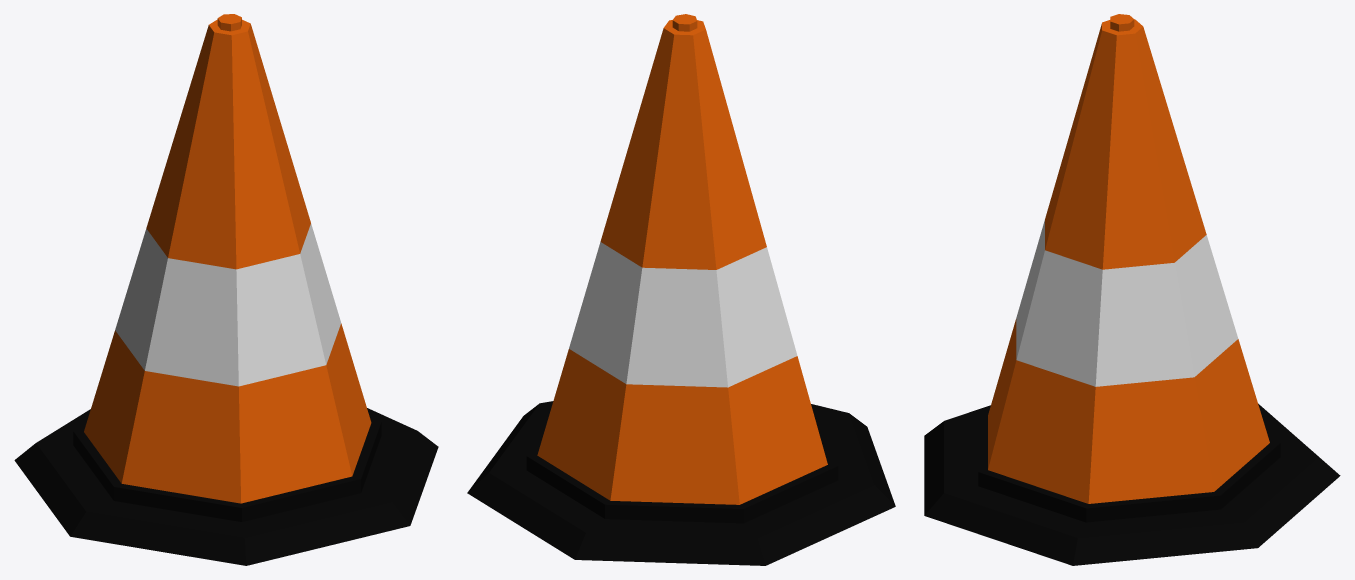
3 renders of one model, left to right at view 1: azimuth 30°, elevation 25°; view 2: azimuth 150°, elevation 25°; view 3: azimuth 270°, elevation 25°, orthographic.
Parts seen in each view (by area): view 1: Traffic Cone, Traffic Cone.001, Traffic Cone.002; view 2: Traffic Cone, Traffic Cone.001, Traffic Cone.002; view 3: Traffic Cone, Traffic Cone.001, Traffic Cone.002.
Part boxes in pixels (<box>): Traffic Cone: <box>84,14,371,503</box>; Traffic Cone.001: <box>14,408,438,565</box>; Traffic Cone.002: <box>115,223,340,386</box>; Traffic Cone: <box>537,14,827,504</box>; Traffic Cone.001: <box>467,401,895,565</box>; Traffic Cone.002: <box>569,242,797,387</box>; Traffic Cone: <box>988,14,1269,503</box>; Traffic Cone.001: <box>924,403,1340,565</box>; Traffic Cone.002: <box>1016,220,1238,386</box>.
Bounding box in the file's own units: 217 × 256 × 211.
